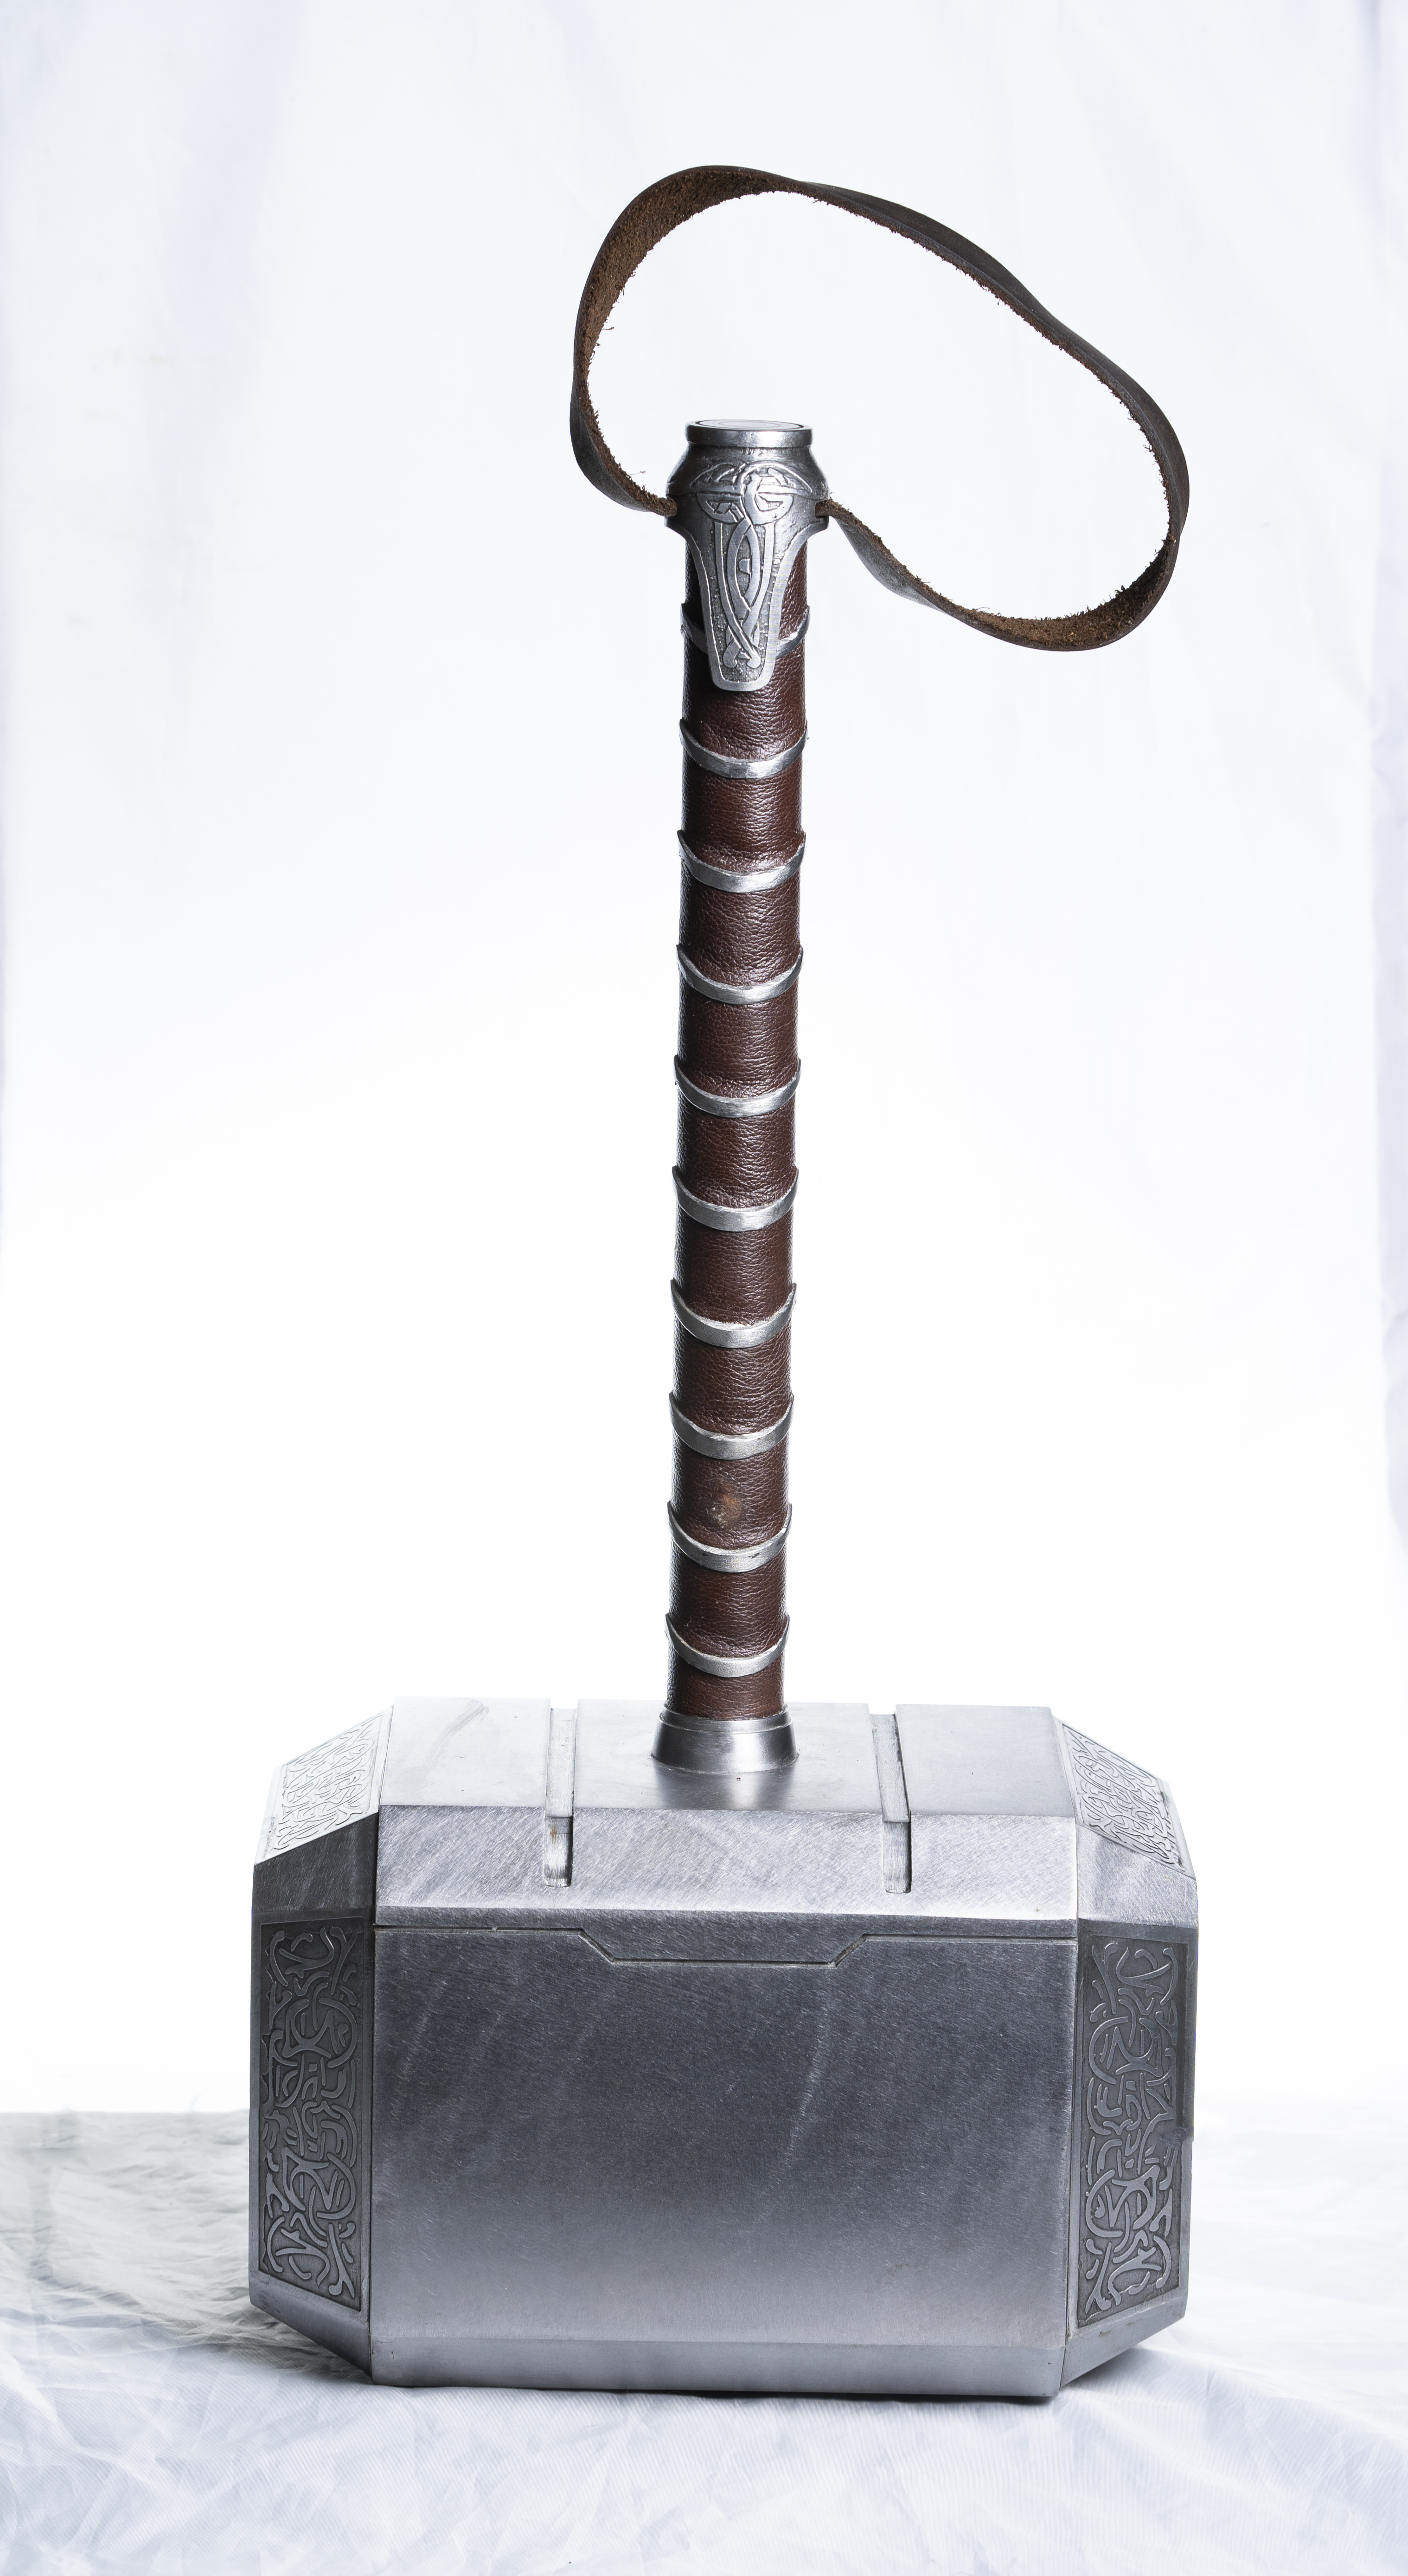THOR Hammer: (217, 354, 1264, 2276)
